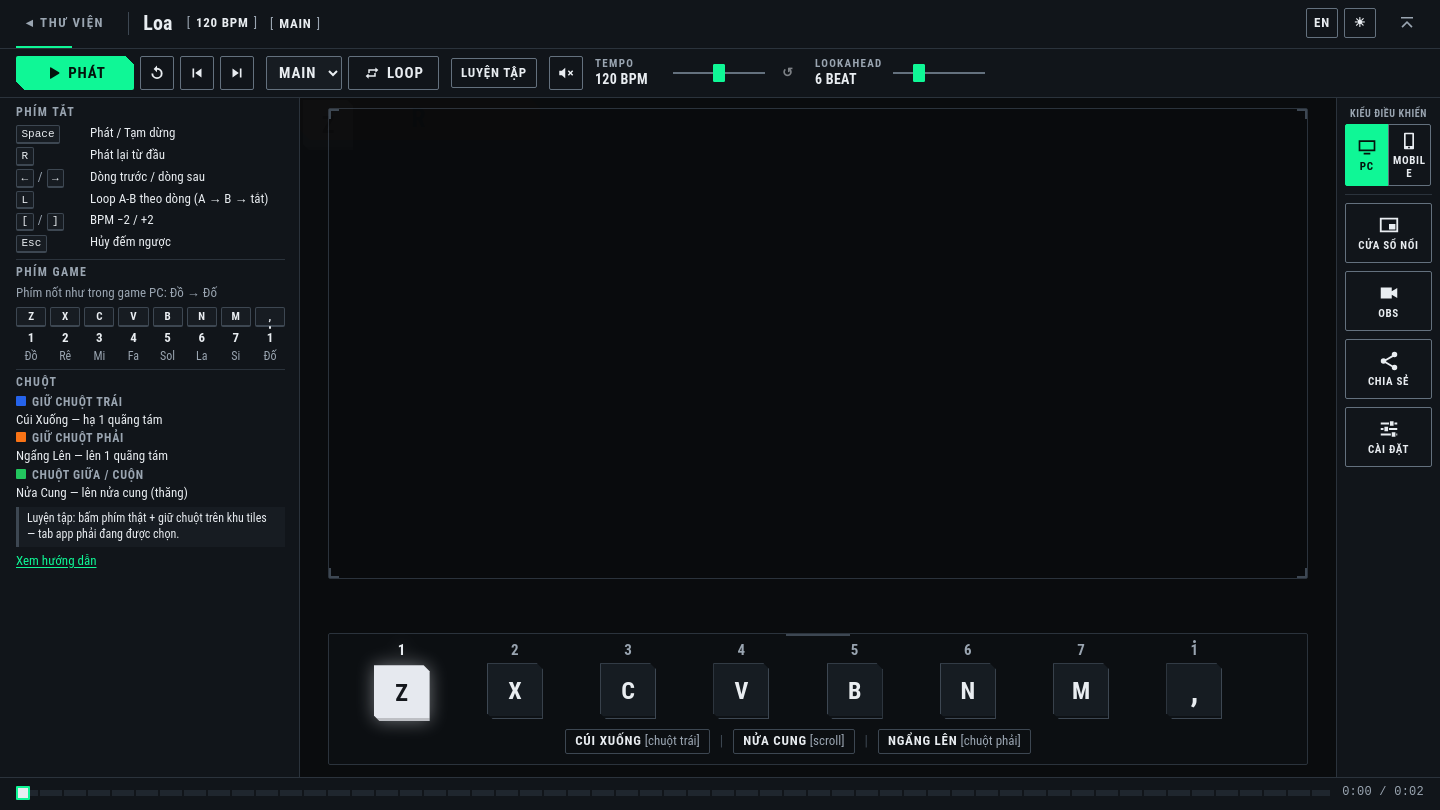
it: màn chơi — nút loa (giai điệu mẫu) › bấm khi đang tắt → ĐÚNG hộp cảnh báo bản quyền của Cài đặt (focus = Hủy); chưa bật gì
Press the mouse on the button named "Tiếng giai điệu" at (566, 73), box [549,56,583,90]
Press the mouse on the button named "Tiếng giai điệu" at (566, 73), box [549,56,583,90]
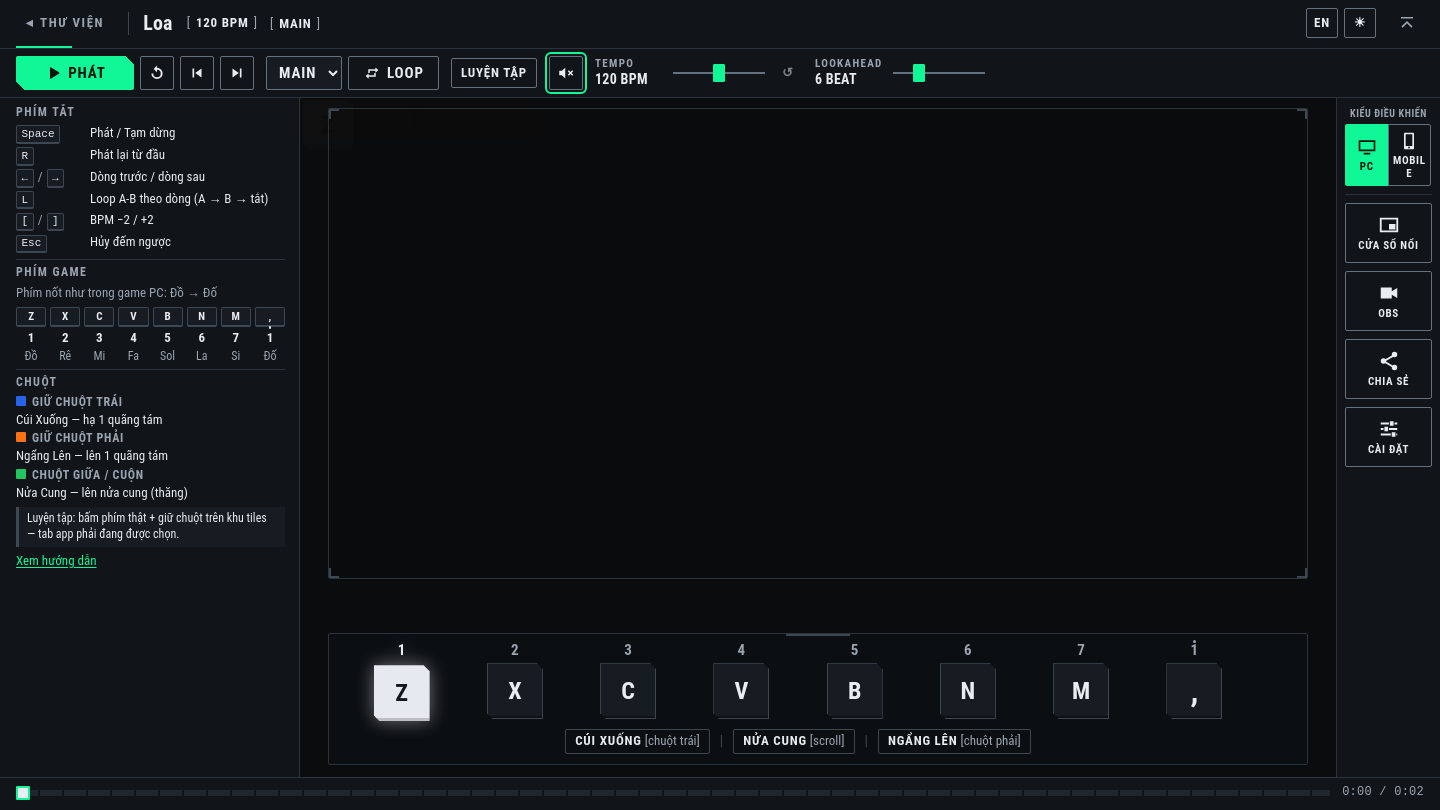
Click the button named "Tiếng giai điệu". click: (566, 73)
box: [549,56,583,90]
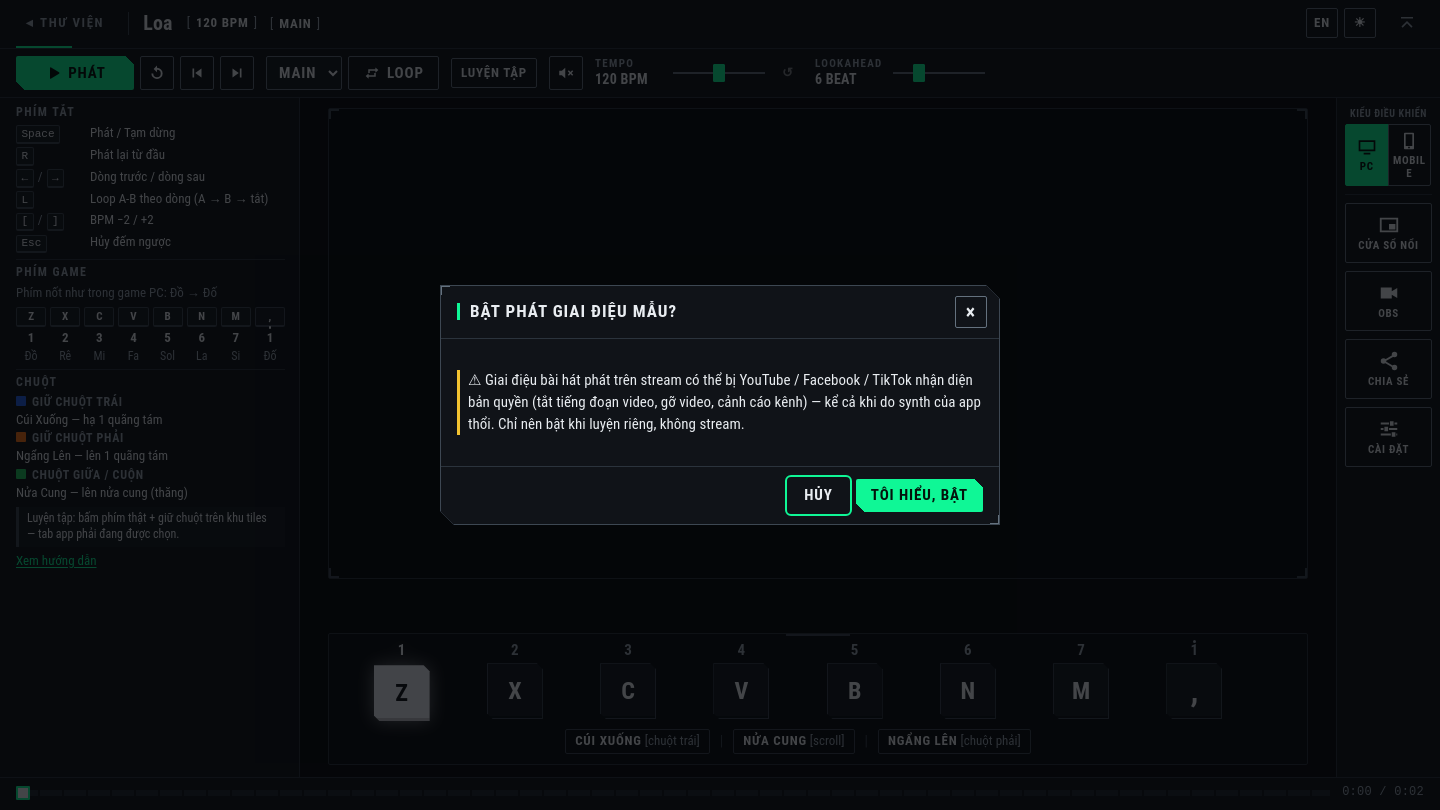
Now the dialog "Bật phát giai điệu mẫu?" shows "YouTube / Facebook / TikTok", box [468,371,981,432]
Now the element with class "settings-warning" is shown, box [457,370,983,435]
Now the button "Tôi hiểu, bật" is shown, box [856,479,983,512]
